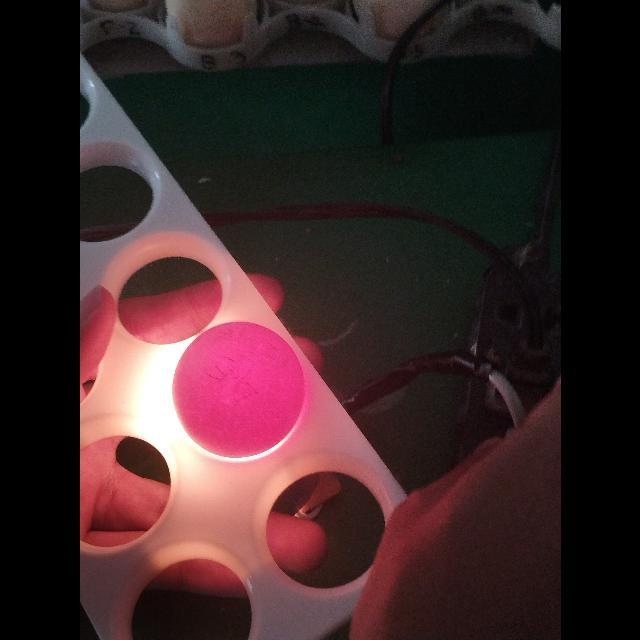Infertile: (170, 318, 306, 462)
